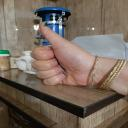ThumbsUp: (29, 20, 94, 94)
